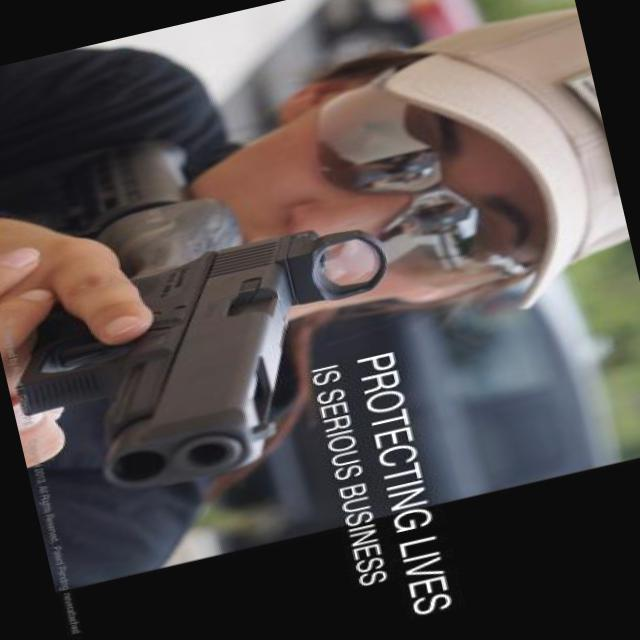handgun: (0, 213, 433, 515)
